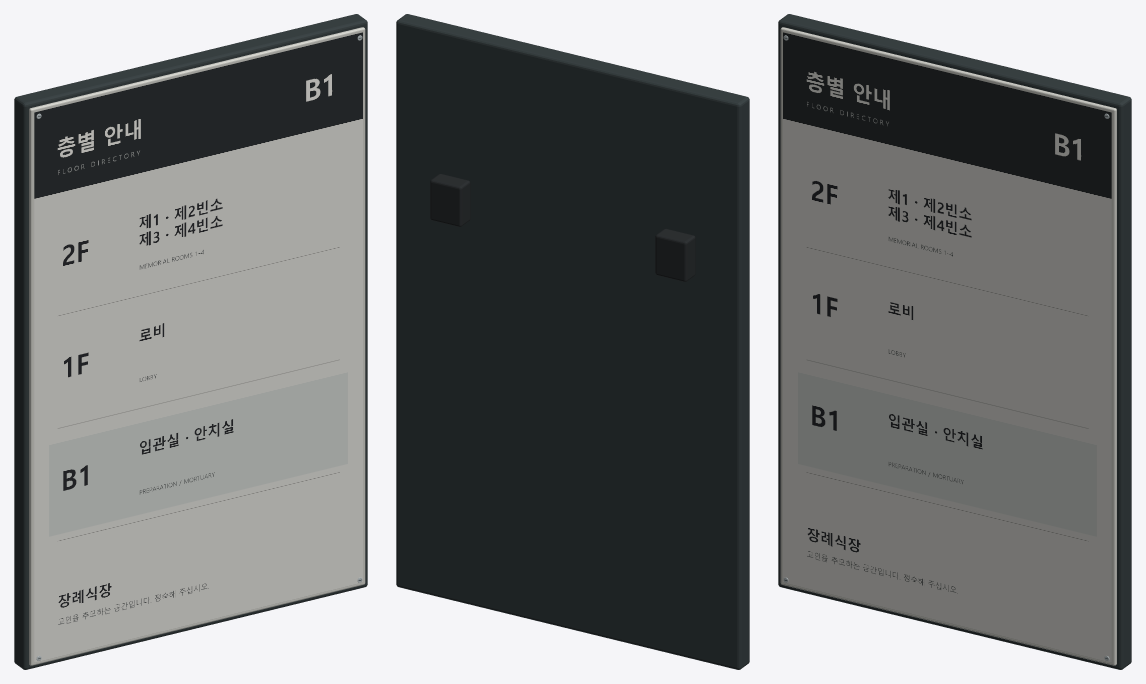
Rendered from Floor_Directory_B1.fbx.
3 views of the same model, side by side, from view 1: azimuth 30°, elevation 25°; view 2: azimuth 150°, elevation 25°; view 3: azimuth 330°, elevation 25° (orthographic).
Visible parts, largest first — view 1: Floor_Directory_B1; view 2: Floor_Directory_B1; view 3: Floor_Directory_B1.
Boxes of the visible parts, box(x1,y1,x2,y2) form: Floor_Directory_B1: box(14, 14, 367, 669); Floor_Directory_B1: box(396, 14, 749, 669); Floor_Directory_B1: box(778, 14, 1131, 669).
Bounding box in the file's own units: 0.49 × 0.77 × 0.0593.
5 materials, 1 textured.
